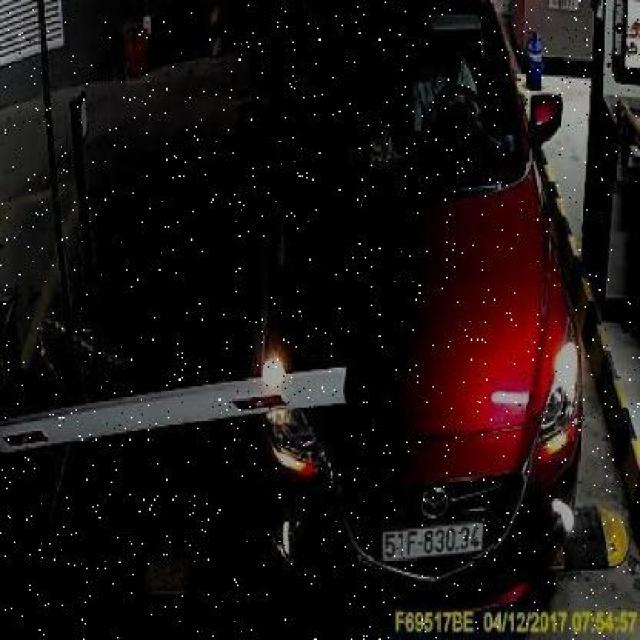number_plate: (377, 509, 494, 562)
